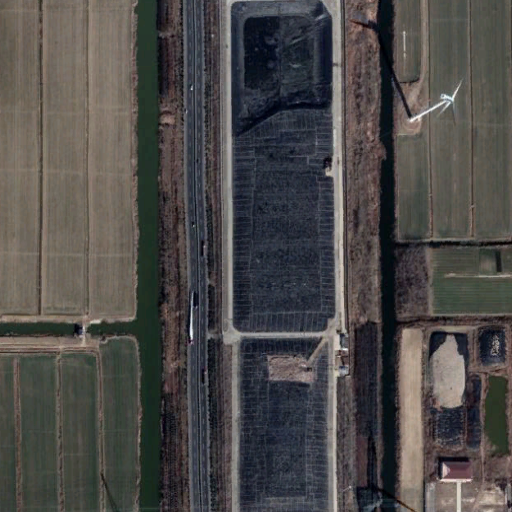lf: (206, 6, 350, 512)
